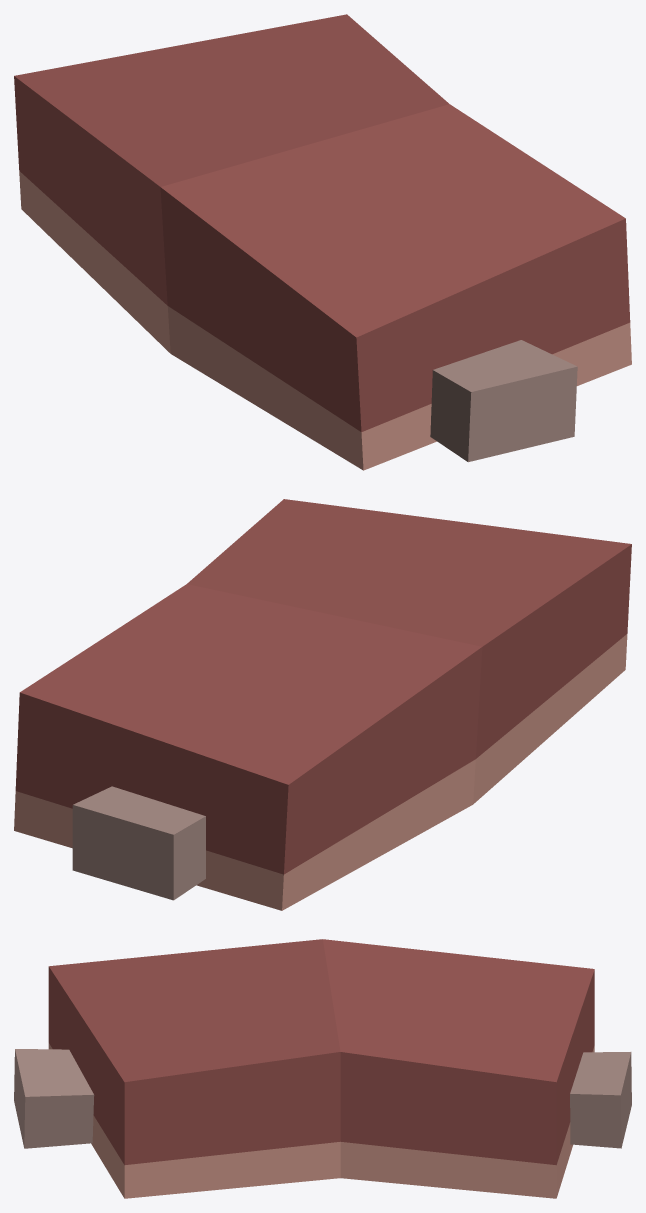
Rendered from porkRibCut04.fbx.
The picture shows the model from 3 angles, top to bottom: view 1: azimuth 30°, elevation 25°; view 2: azimuth 150°, elevation 25°; view 3: azimuth 270°, elevation 25°; orthographic projection. The views are drawn at different scales.
Parts seen in each view (by area): view 1: porkRibCut04; view 2: porkRibCut04; view 3: porkRibCut04.
Part boxes in pixels (left/top/right/bottom): porkRibCut04: left=14, top=14, right=631, bottom=470; porkRibCut04: left=14, top=499, right=631, bottom=910; porkRibCut04: left=14, top=939, right=631, bottom=1198.
Bounding box in the file's own units: 9.67 × 4.58 × 19.44.
Materials: 1 (1 with a texture image).
